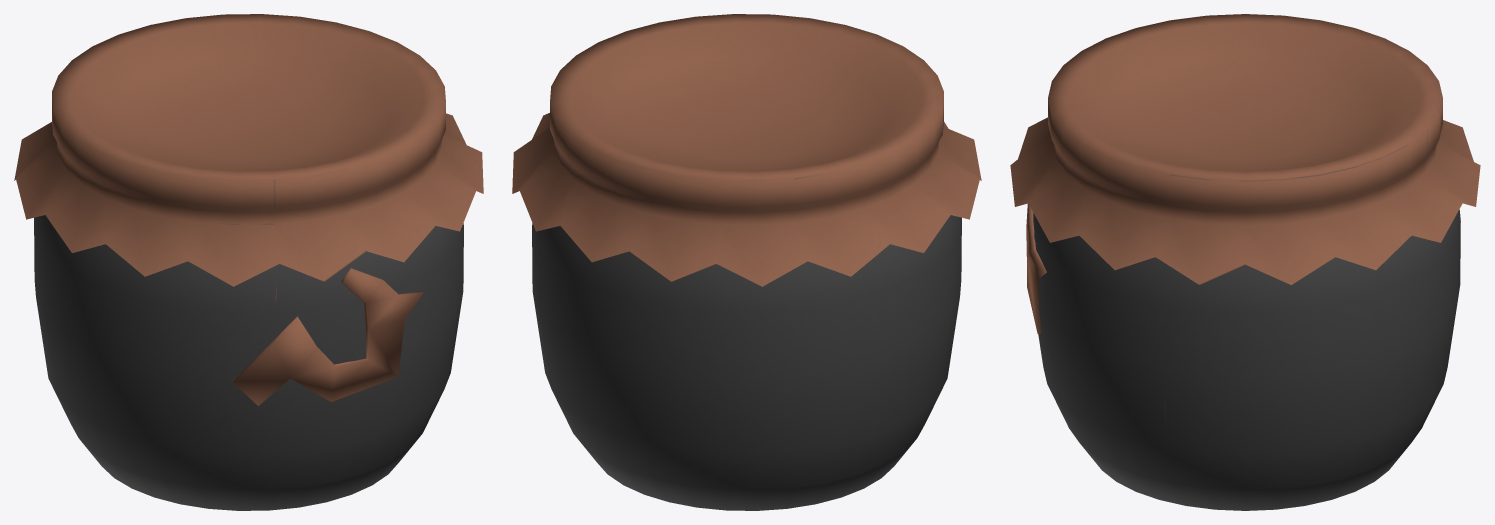
Rendered from Pot.fbx.
3 views of the same model, side by side, from view 1: azimuth 30°, elevation 25°; view 2: azimuth 150°, elevation 25°; view 3: azimuth 270°, elevation 25° (orthographic).
Visible parts, largest first — view 1: Pot1; view 2: Pot1; view 3: Pot1.
Part boxes in pixels (x1=…): Pot1: x1=14, y1=14, x2=483, y2=510; Pot1: x1=512, y1=14, x2=981, y2=510; Pot1: x1=1010, y1=14, x2=1480, y2=510.
Bounding box in the file's own units: 502 × 410 × 502.
Materials: 2 (2 with a texture image).
